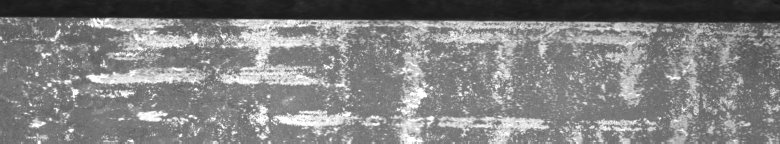kb: (4, 12, 776, 136)
